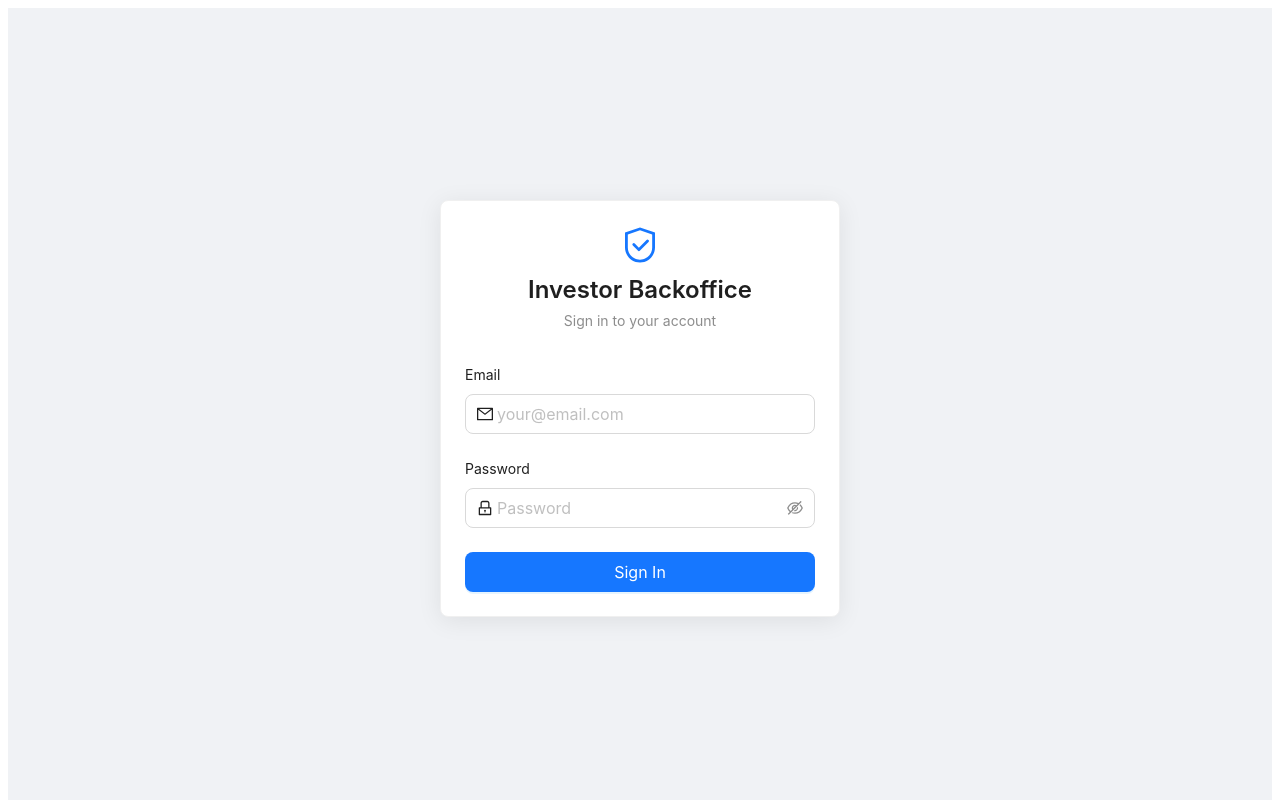
Scenario: LoginPage › shows error message on failed login
Type "wrong@example.com" into the field with placeholder "your@email.com".
click(650, 414); type("wrong@example.com")  # box [497,402,803,426]
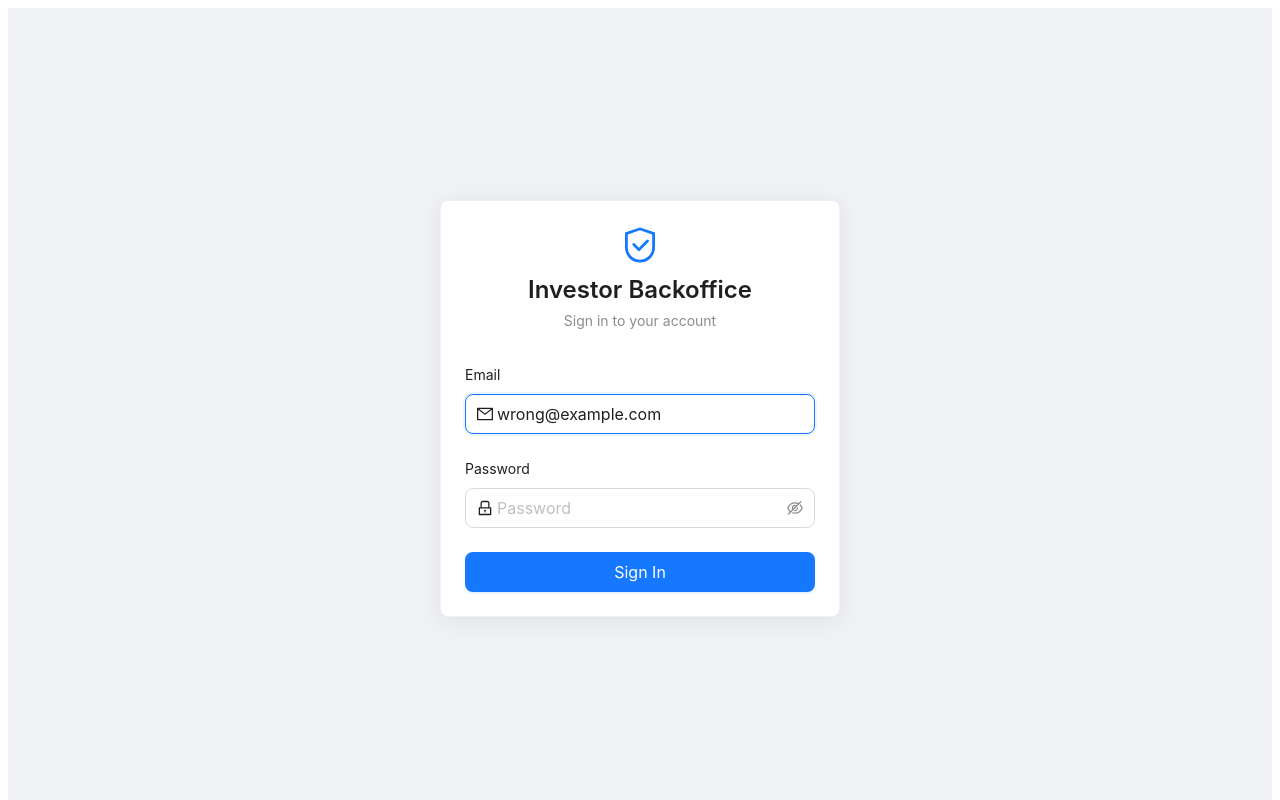
Type "WrongPass!" into the password field with placeholder "Password".
click(640, 508); type("WrongPass!")  # box [497,496,783,520]
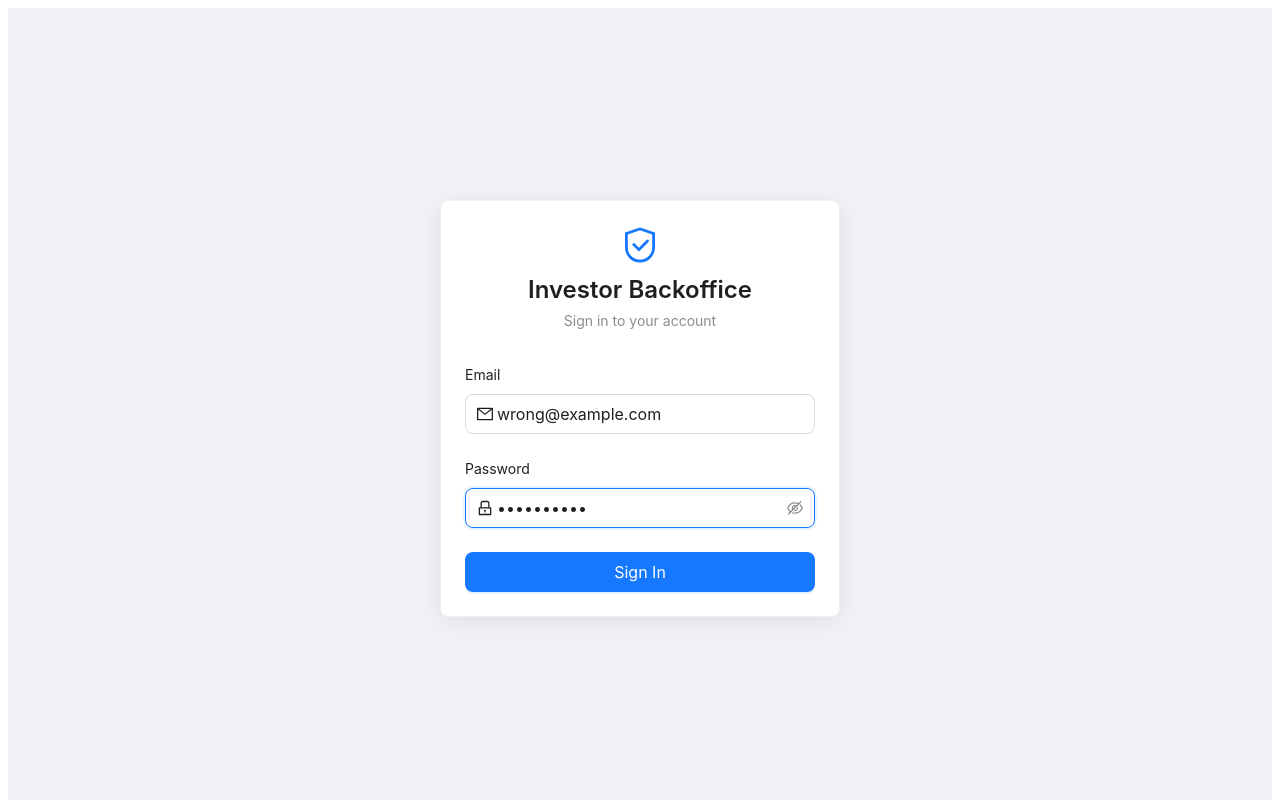
Click the button "Sign In".
click(640, 572)  # box [465,552,815,592]
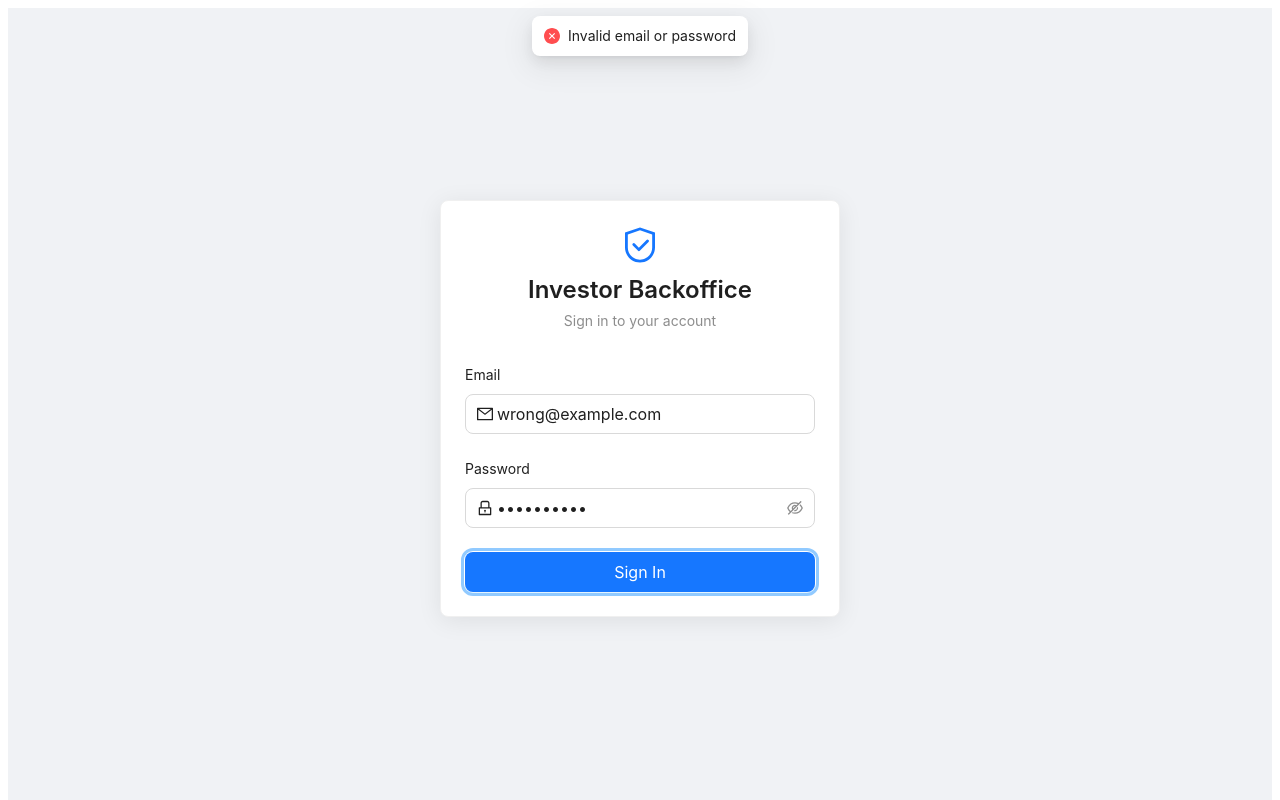
Check: the text "Invalid email or password" is shown, box [568,25,736,47]
